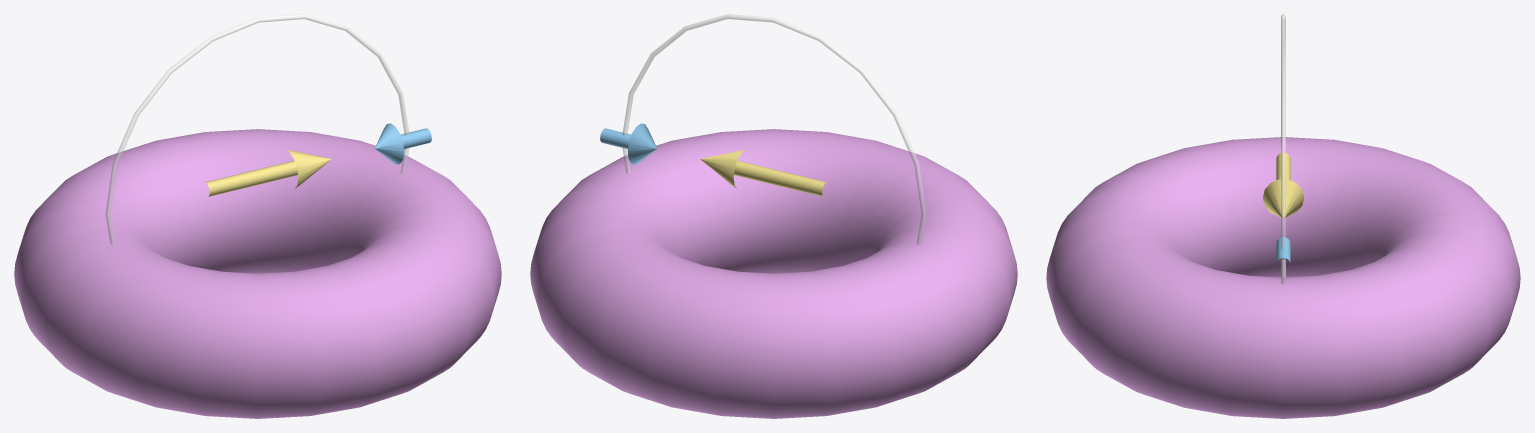
The picture shows the model from 3 angles, left to right: view 1: azimuth 30°, elevation 25°; view 2: azimuth 150°, elevation 25°; view 3: azimuth 270°, elevation 25°; orthographic projection. The views are drawn at different scales.
Parts seen in each view (by area): view 1: torus, center_circle, major_radius, minor_radius; view 2: torus, center_circle, major_radius, minor_radius; view 3: torus, major_radius, center_circle.
Boxes of the visible parts, box(x1,y1,x2,y2) form: torus: box(14, 129, 501, 418); center_circle: box(105, 14, 409, 244); major_radius: box(205, 149, 331, 196); minor_radius: box(375, 123, 431, 164); torus: box(530, 129, 1017, 418); center_circle: box(622, 14, 926, 244); major_radius: box(700, 149, 826, 196); minor_radius: box(600, 123, 656, 164); torus: box(1046, 137, 1520, 418); major_radius: box(1262, 152, 1304, 218); center_circle: box(1281, 14, 1285, 283).
Bounding box in the file's own units: 1.26 × 0.9163 × 1.26.
